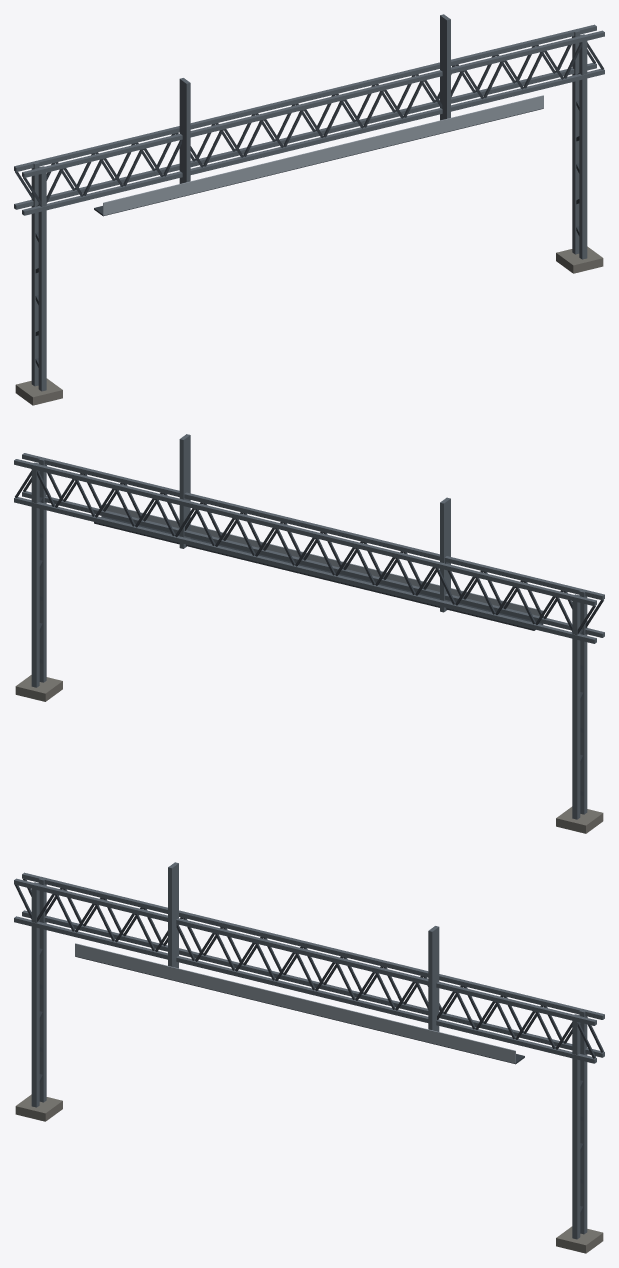
File: env_sign_gantry.fbx
3 views of the same model, one above another, from view 1: azimuth 30°, elevation 25°; view 2: azimuth 150°, elevation 25°; view 3: azimuth 330°, elevation 25° (orthographic).
Visible parts, largest first — view 1: env_sign_gantry; view 2: env_sign_gantry; view 3: env_sign_gantry.
Part boxes in pixels (x1=…): env_sign_gantry: x1=14, y1=14, x2=604, y2=405; env_sign_gantry: x1=14, y1=434, x2=604, y2=833; env_sign_gantry: x1=14, y1=862, x2=604, y2=1253.
Bounding box in the file's own units: 5800 × 2720 × 395.
